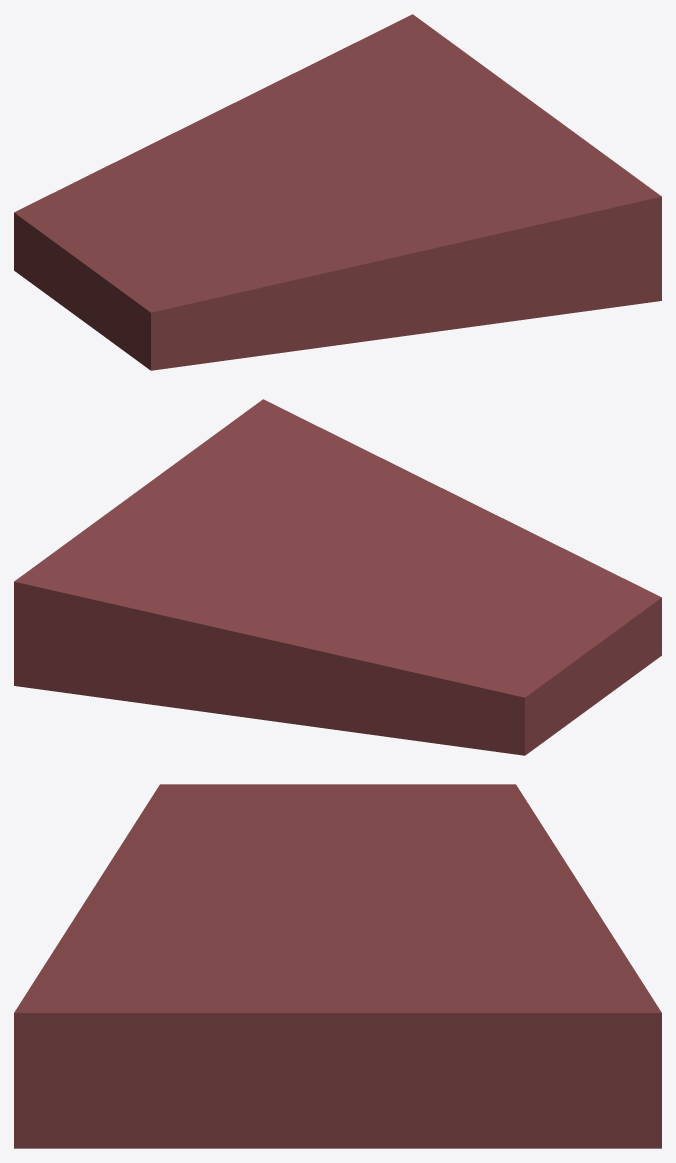
File: piece.dae
The picture shows the model from 3 angles, top to bottom: view 1: azimuth 30°, elevation 25°; view 2: azimuth 150°, elevation 25°; view 3: azimuth 270°, elevation 25°; orthographic projection. The views are drawn at different scales.
Parts seen in each view (by area): view 1: Cube; view 2: Cube; view 3: Cube.
Boxes of the visible parts, bbox=[...] form: Cube: bbox=[14, 14, 661, 370]; Cube: bbox=[14, 399, 661, 755]; Cube: bbox=[14, 784, 661, 1148].
Bounding box in the file's own units: 0.4323 × 0.4102 × 0.0947.
